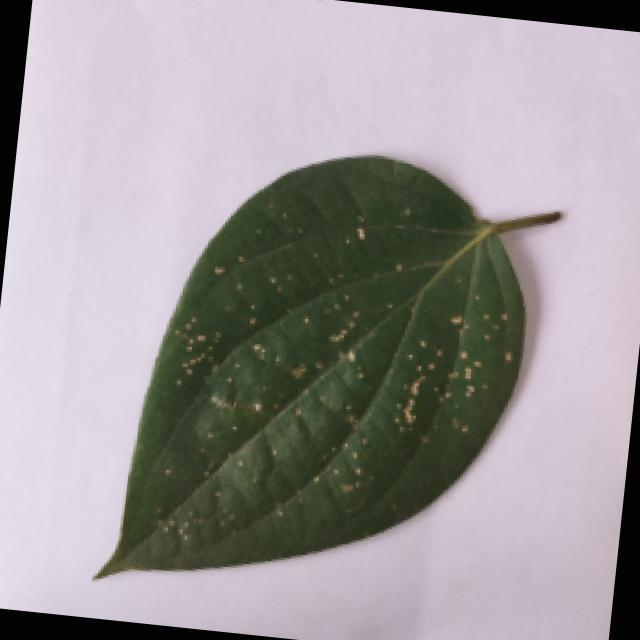pollu-disease: (76, 124, 584, 627)
